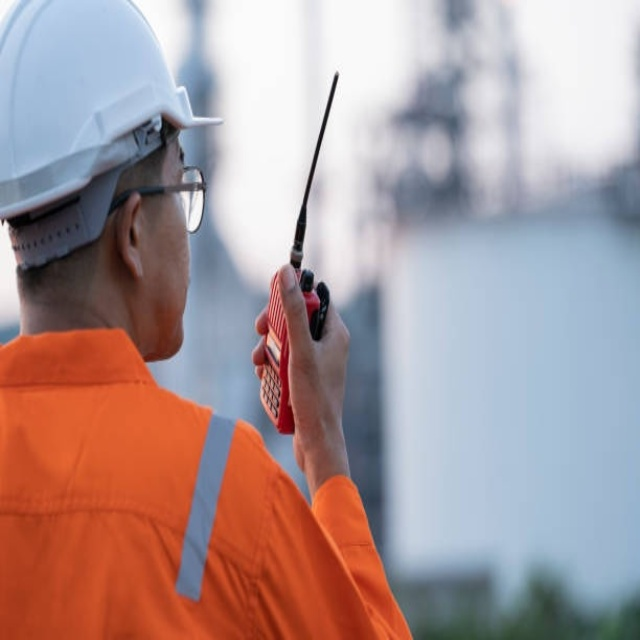Gafas: (107, 171, 208, 236)
Sin_guantes: (252, 264, 351, 461)
